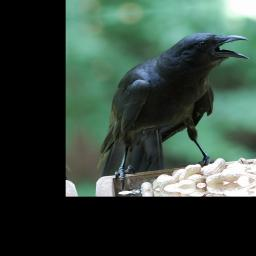Crow: (82, 28, 256, 192)
